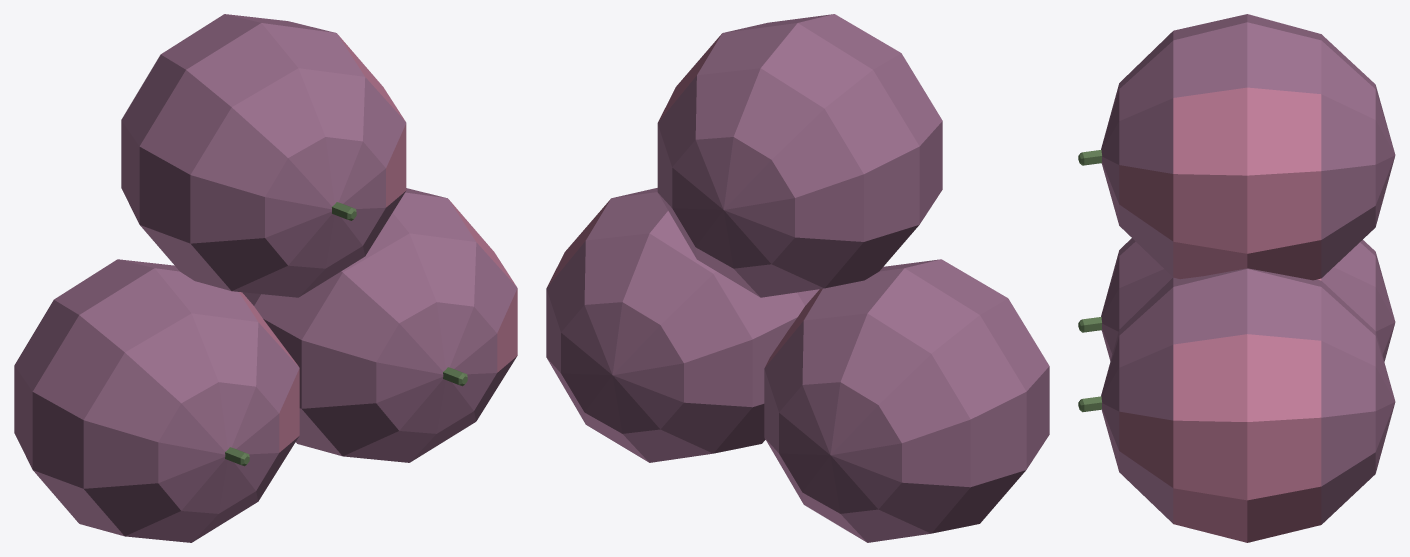
Rendered from passion_fruit.glb.
The picture shows the model from 3 angles, left to right: view 1: azimuth 30°, elevation 25°; view 2: azimuth 150°, elevation 25°; view 3: azimuth 270°, elevation 25°; orthographic projection.
Visible parts, largest first — view 1: passion_fruit; view 2: passion_fruit; view 3: passion_fruit.
Part boxes in pixels (x1=…): passion_fruit: x1=14, y1=14, x2=517, y2=542; passion_fruit: x1=546, y1=14, x2=1049, y2=542; passion_fruit: x1=1078, y1=14, x2=1395, y2=542.
Bounding box in the file's own units: 0.1081 × 0.1085 × 0.0642.
